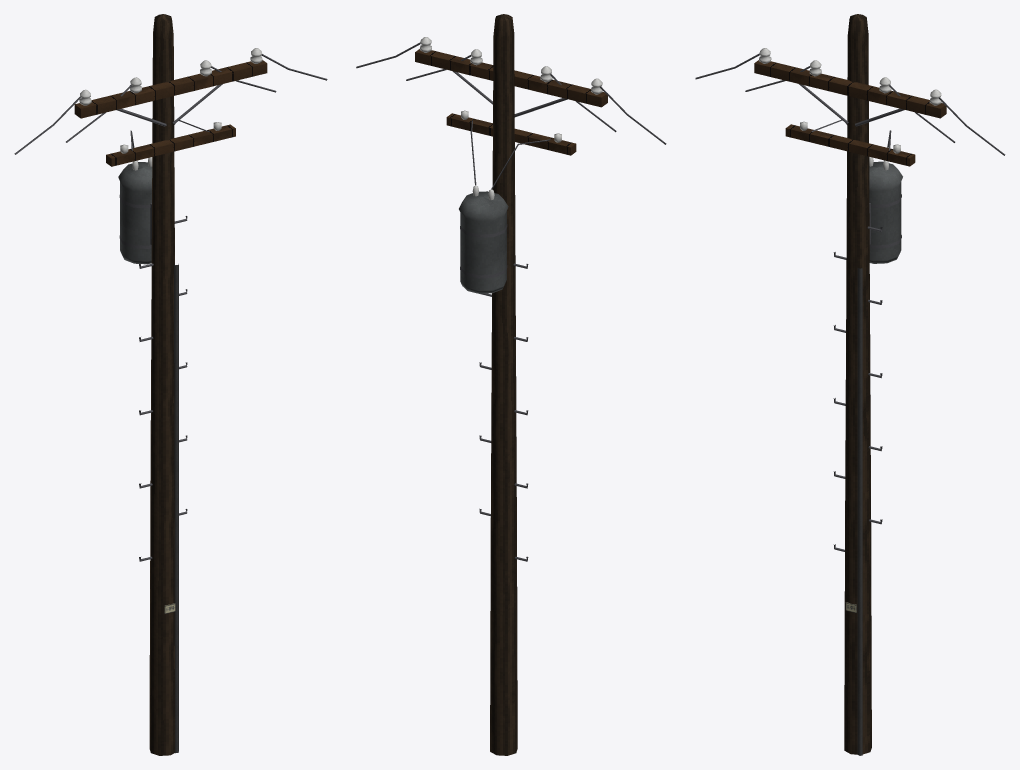
File: utility_pole.glb
3 renders of one model, left to right at view 1: azimuth 30°, elevation 25°; view 2: azimuth 150°, elevation 25°; view 3: azimuth 330°, elevation 25°, orthographic.
Visible parts, largest first — view 1: pole-col, detail; view 2: pole-col, detail; view 3: pole-col, detail.
Boxes of the visible parts, x1=… form: pole-col: x1=149, y1=14, x2=174, y2=755; detail: x1=14, y1=48, x2=327, y2=753; pole-col: x1=490, y1=14, x2=517, y2=755; detail: x1=356, y1=37, x2=666, y2=561; pole-col: x1=844, y1=14, x2=871, y2=754; detail: x1=695, y1=48, x2=1005, y2=755.
Bounding box in the file's own units: 4.01 × 9.05 × 0.9563.
Materials: 7 (7 with a texture image).
